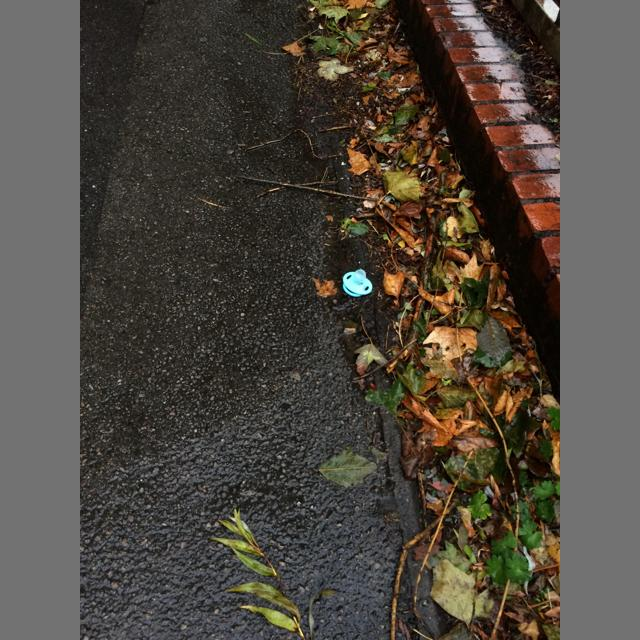litter: (343, 269, 373, 296)
